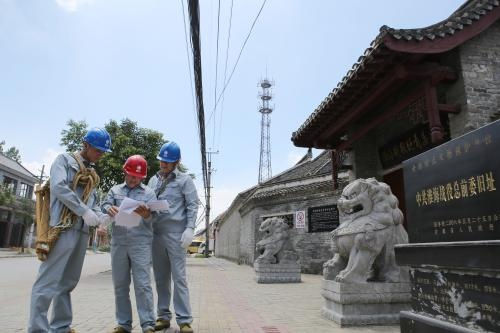blue: (80, 126, 112, 164), (156, 141, 182, 175)
red: (121, 154, 148, 188)
